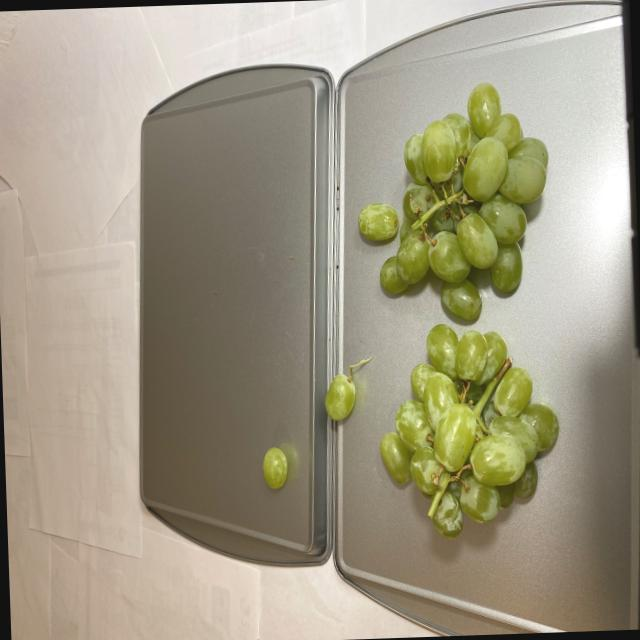grapes: (354, 73, 568, 544), (321, 366, 363, 427), (259, 442, 290, 498)
